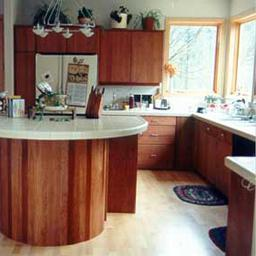Electrodomestico: (38, 56, 93, 110)
Ventana: (168, 17, 220, 95), (228, 20, 255, 95)
